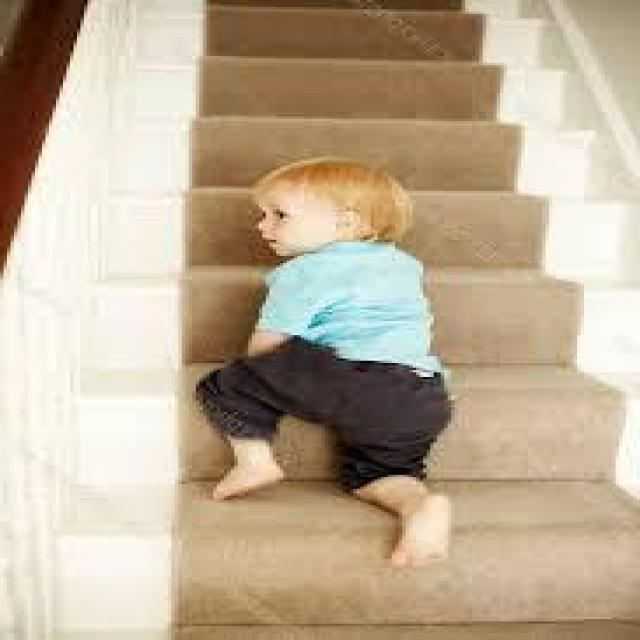child: (196, 149, 479, 575)
